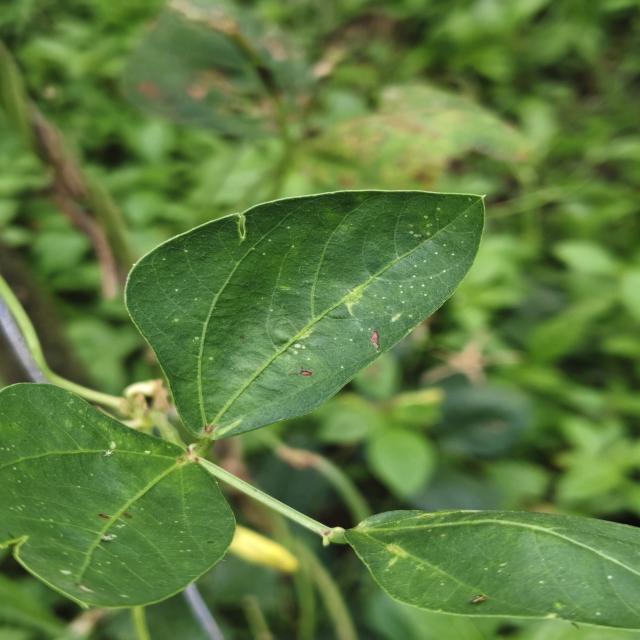sitaw-aphid-high: (126, 190, 485, 440), (0, 383, 235, 607), (331, 510, 640, 632)
